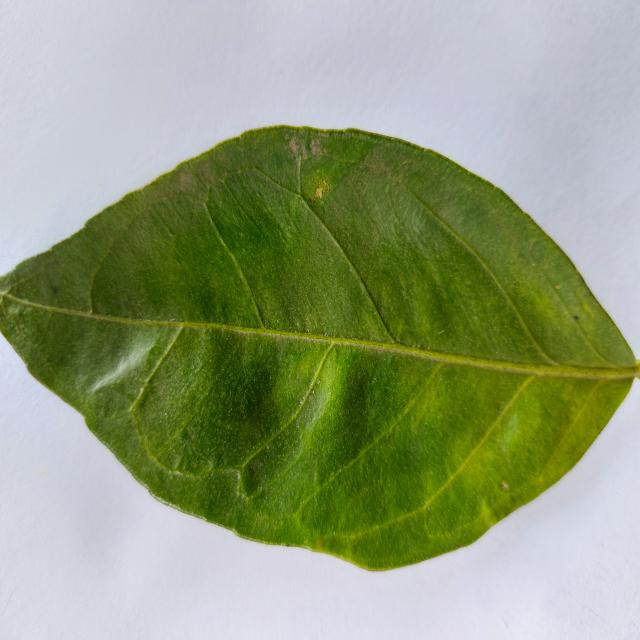greening: (0, 127, 640, 569)
